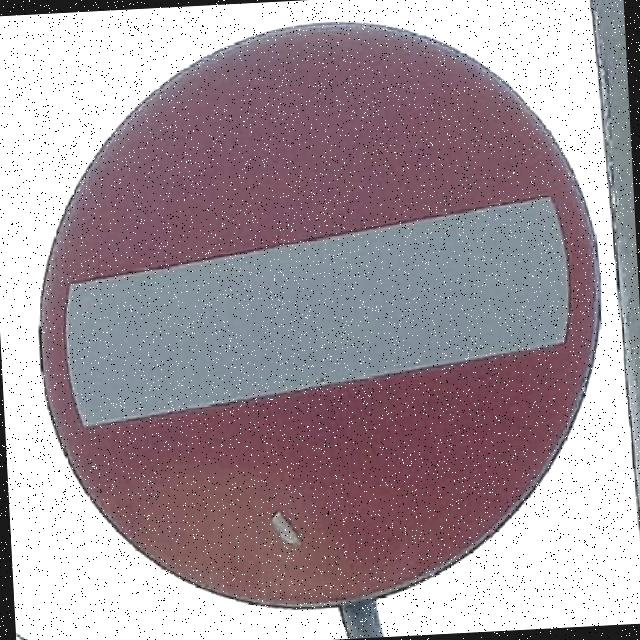Zakaz wjazdu: (18, 9, 619, 624)
